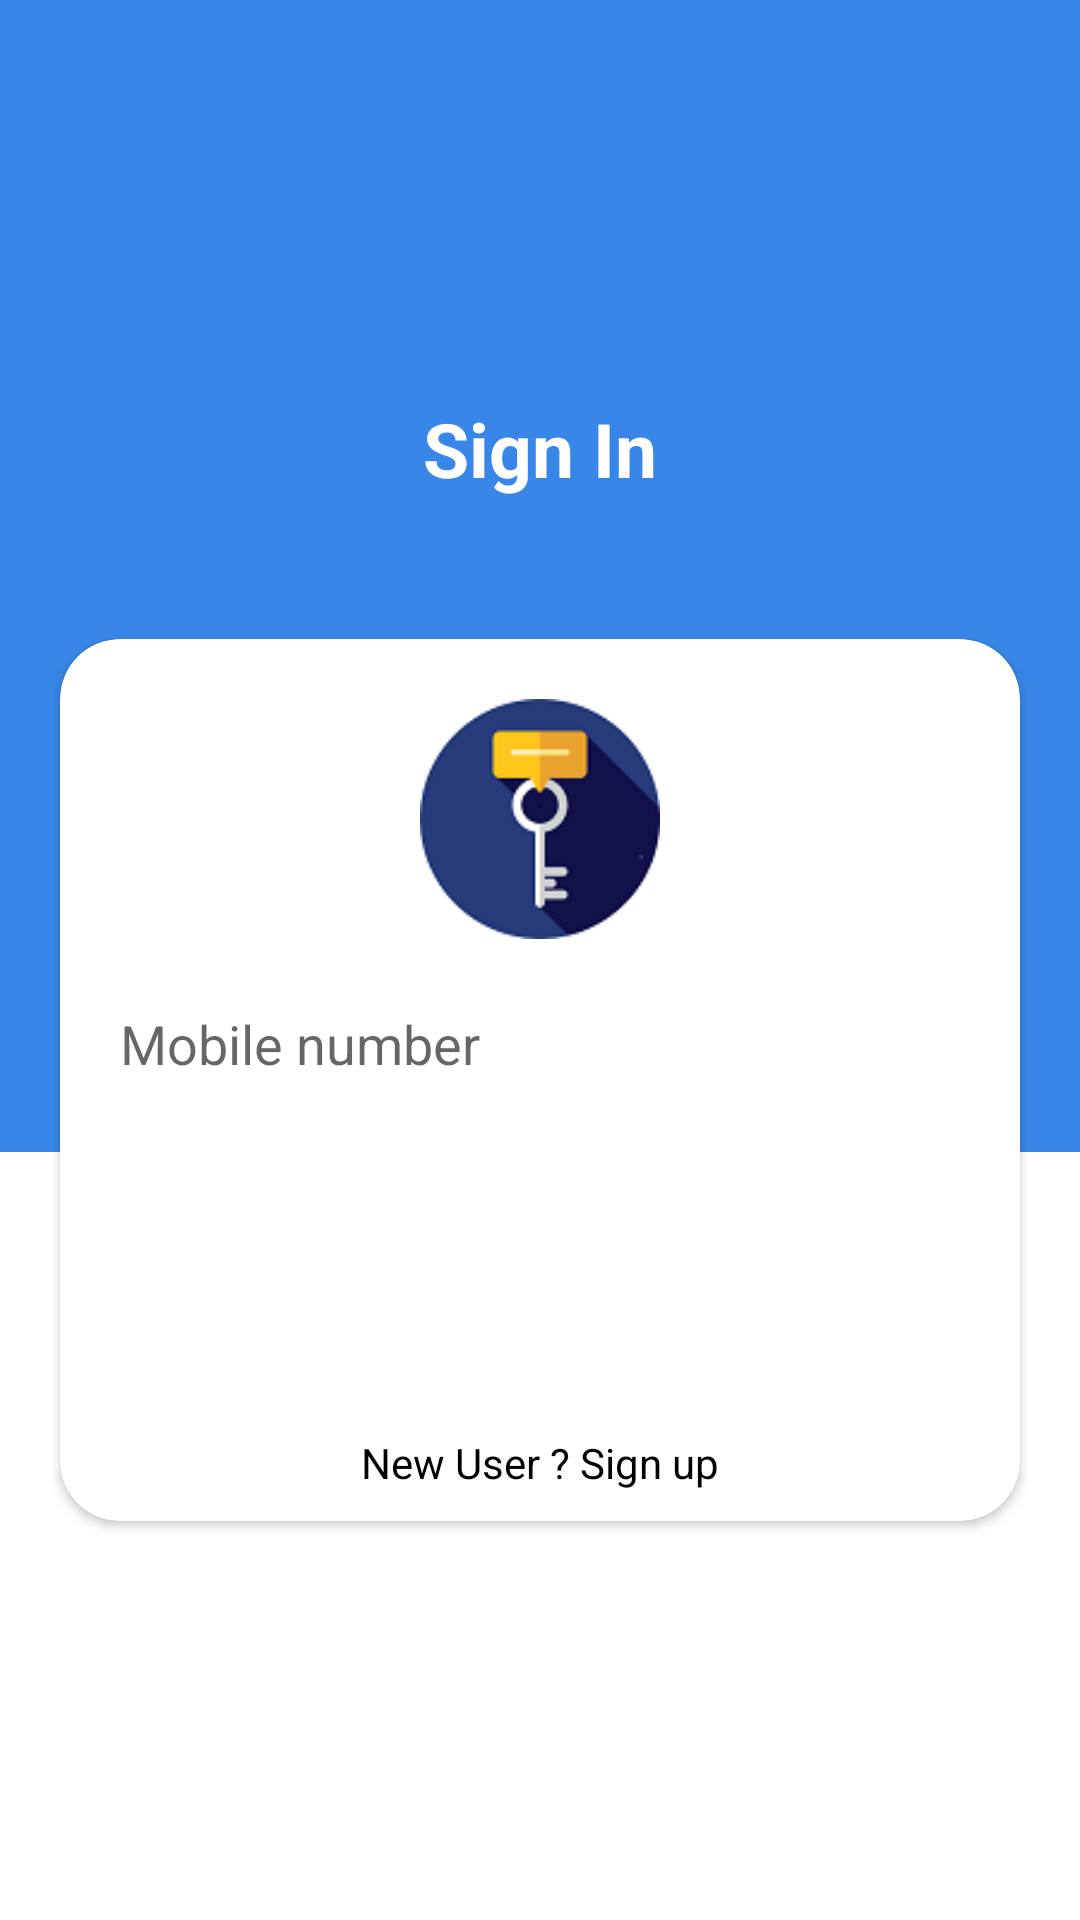

Locate icon controls on the screen. Image size 1080 x 1920, boxes as (x1, y1, x2, y2).
pass: (420, 699, 660, 939)
